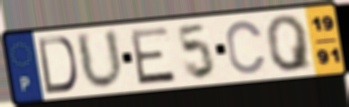5: (175, 21, 216, 82)
C: (224, 19, 269, 77)
D: (36, 35, 80, 96)
E: (128, 24, 178, 87)
Q: (264, 13, 316, 74)
U: (73, 26, 127, 92)
